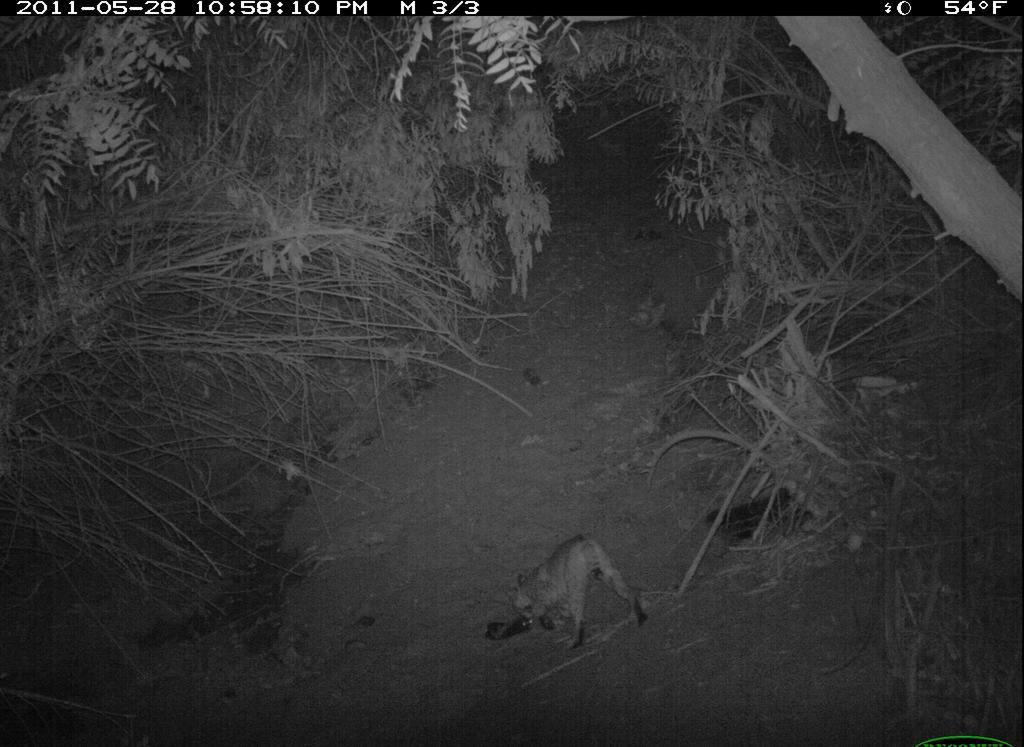bobcat: (498, 529, 657, 657)
